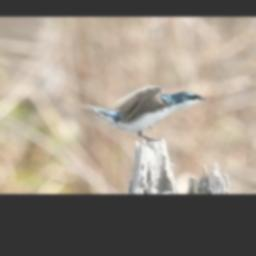Swallow: (64, 83, 208, 142)
